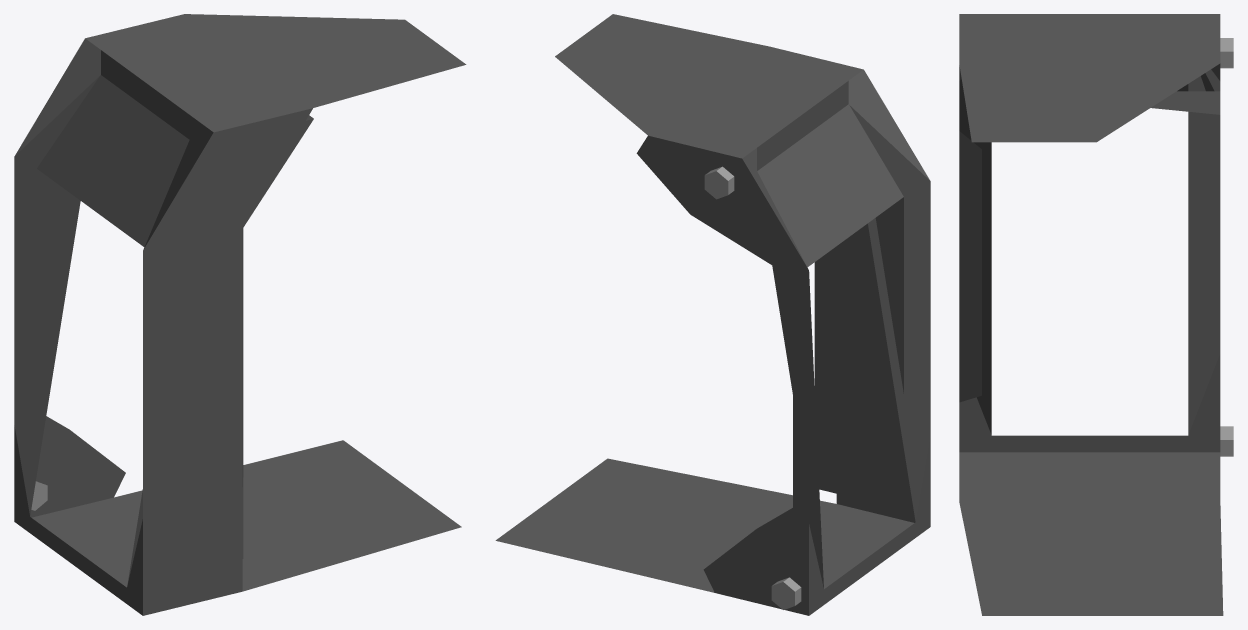
The model's file is HarpoonShelter.fbx.
The picture shows the model from 3 angles, left to right: view 1: azimuth 30°, elevation 25°; view 2: azimuth 150°, elevation 25°; view 3: azimuth 270°, elevation 25°; orthographic projection. The views are drawn at different scales.
Parts seen in each view (by area): view 1: Room-4way-bolted.001; view 2: Room-4way-bolted.001; view 3: Room-4way-bolted.001.
Boxes of the visible parts, x1,y1,x2,y2 form: Room-4way-bolted.001: (14, 14, 466, 615); Room-4way-bolted.001: (495, 14, 930, 615); Room-4way-bolted.001: (959, 14, 1233, 615).
Size of the model in its own units: 2.97 by 4 by 2.1.
